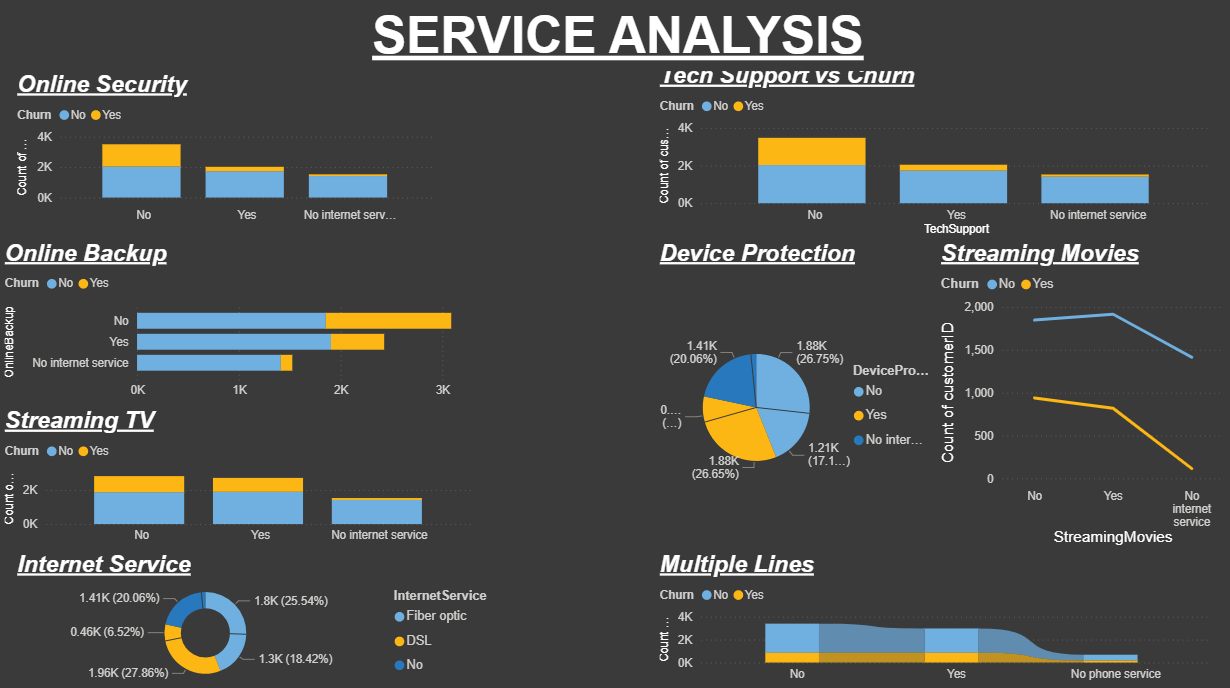

What the dashboard file says about the page in this screenshot:
{"tool":"powerbi","page":{"name":"Service Analysis","canvas":[1280,720],"ordinal":2},"visuals":[{"type":"columnChart","title":"Online Security","fields":{"Series":["cleaned_dataset.Churn"],"Category":["cleaned_dataset.OnlineSecurity"],"Y":["CountNonNull(cleaned_dataset.customerID)"]},"box":[12.3,78.2,441.9,164.7],"z":0},{"type":"columnChart","title":"Tech Support vs Churn","fields":{"Series":["cleaned_dataset.Churn"],"Category":["cleaned_dataset.TechSupport"],"Y":["CountNonNull(cleaned_dataset.customerID)"]},"box":[680.6,68.6,583.2,185.2],"z":1},{"type":"textbox","box":[0,5.5,1280.3,72.7],"z":2},{"type":"barChart","title":"Online Backup","fields":{"Category":["cleaned_dataset.OnlineBackup"],"Series":["cleaned_dataset.Churn"],"Y":["CountNonNull(cleaned_dataset.customerID)"]},"box":[0,253.9,525.6,172.9],"z":3},{"type":"pieChart","title":"Device Protection","fields":{"Category":["cleaned_dataset.DeviceProtection"],"Series":["cleaned_dataset.Churn"],"Y":["CountNonNull(cleaned_dataset.customerID)"]},"box":[680.6,253.9,297.8,322.5],"z":4},{"type":"columnChart","title":"Streaming TV","fields":{"Series":["cleaned_dataset.Churn"],"Category":["cleaned_dataset.StreamingTV"],"Y":["CountNonNull(cleaned_dataset.customerID)"]},"box":[0,426.8,498.1,149.6],"z":5},{"type":"lineChart","title":"Streaming Movies","fields":{"Category":["cleaned_dataset.StreamingMovies"],"Series":["cleaned_dataset.Churn"],"Y":["CountNonNull(cleaned_dataset.customerID)"]},"box":[972.9,253.9,307.4,322.5],"z":6},{"type":"donutChart","title":"Internet Service","fields":{"Category":["cleaned_dataset.InternetService"],"Series":["cleaned_dataset.Churn"],"Y":["CountNonNull(cleaned_dataset.customerID)"]},"box":[12.3,576.3,513.2,144.1],"z":7},{"type":"ribbonChart","title":"Multiple Lines","fields":{"Series":["cleaned_dataset.Churn"],"Category":["cleaned_dataset.MultipleLines"],"Y":["CountNonNull(cleaned_dataset.customerID)"]},"box":[680.6,576.3,583.2,144.1],"z":8}]}

Visuals, with their boxes in screenshot pixels (x1, y1, x2, y2), scaled from the page's 1280x720 canvas onto the 1230x688 screenshot:
"Online Security" columnChart: {"left": 12, "top": 75, "right": 436, "bottom": 232}
"Tech Support vs Churn" columnChart: {"left": 654, "top": 66, "right": 1214, "bottom": 243}
textbox: {"left": 0, "top": 5, "right": 1229, "bottom": 75}
"Online Backup" barChart: {"left": 0, "top": 243, "right": 505, "bottom": 408}
"Device Protection" pieChart: {"left": 654, "top": 243, "right": 940, "bottom": 551}
"Streaming TV" columnChart: {"left": 0, "top": 408, "right": 479, "bottom": 551}
"Streaming Movies" lineChart: {"left": 935, "top": 243, "right": 1229, "bottom": 551}
"Internet Service" donutChart: {"left": 12, "top": 551, "right": 505, "bottom": 687}
"Multiple Lines" ribbonChart: {"left": 654, "top": 551, "right": 1214, "bottom": 687}
